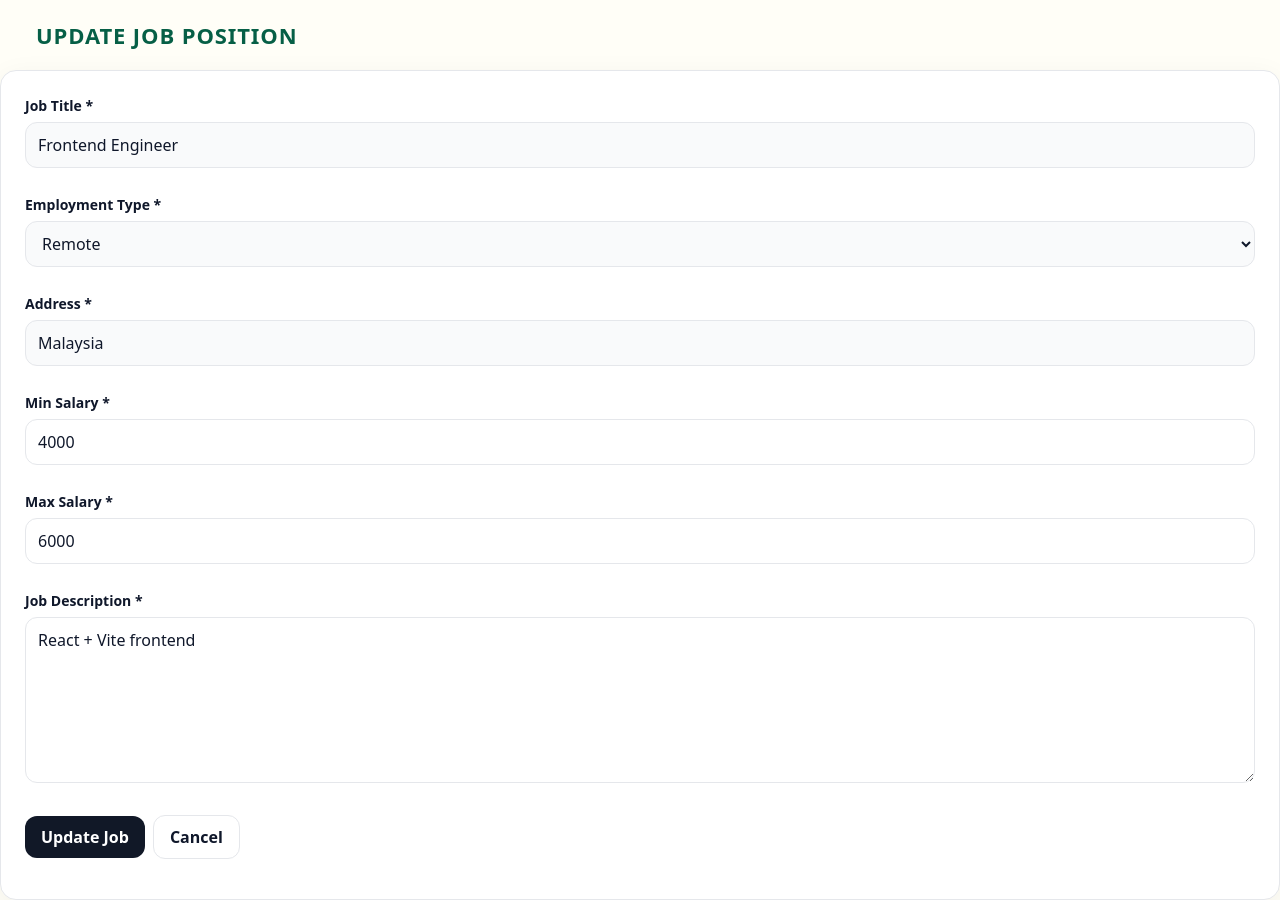
Test case: shows error when update fails
(page scrolled)
Expected: the field showing "Frontend Engineer" below "Job Title *" is shown, [25, 122, 1255, 168]
Click the button "Update Job": (85, 837) [25, 816, 145, 858]
(page scrolled)
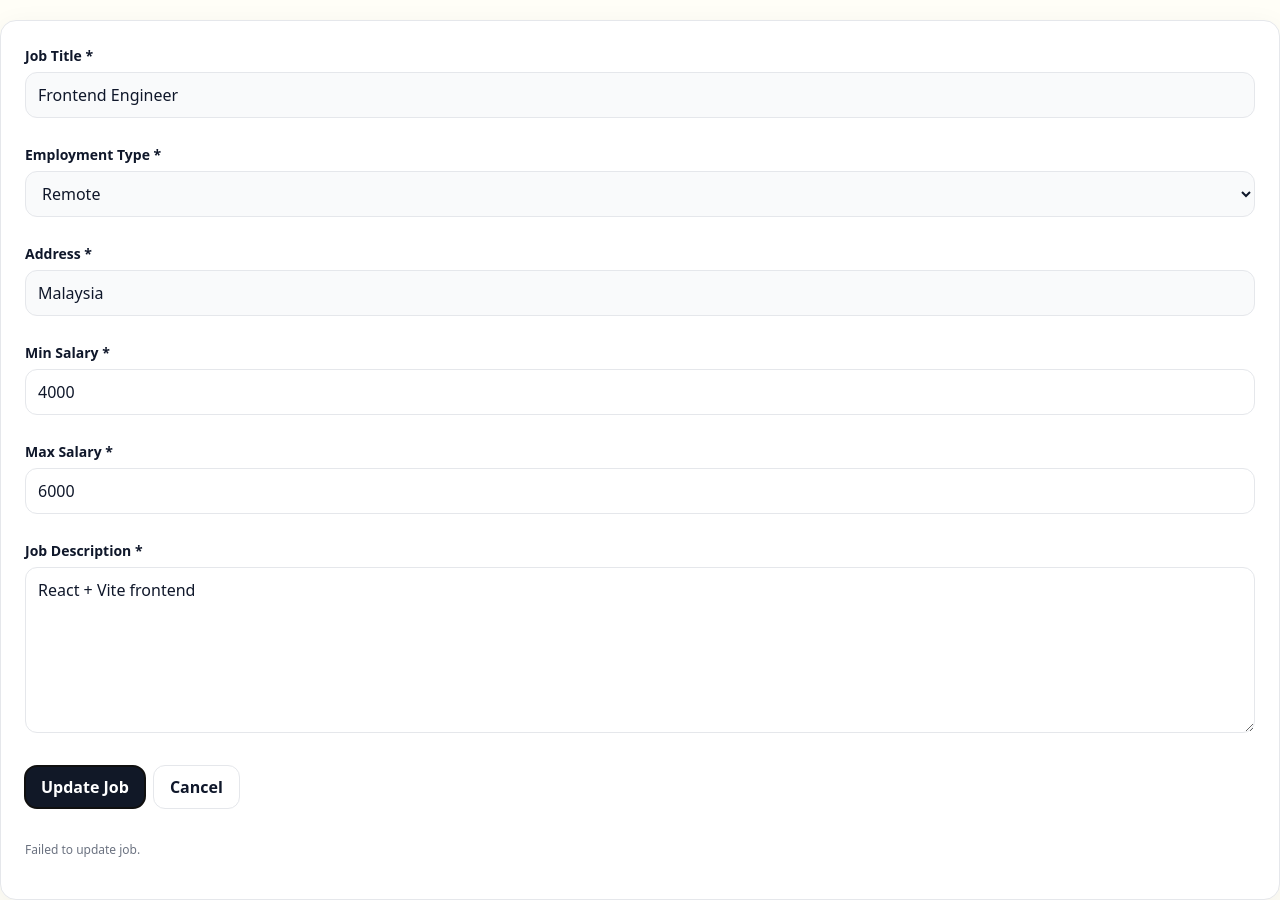
Now the text "Failed to update job." is shown, box [25, 841, 140, 858]
